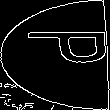P_E: (4, 36, 106, 74)
